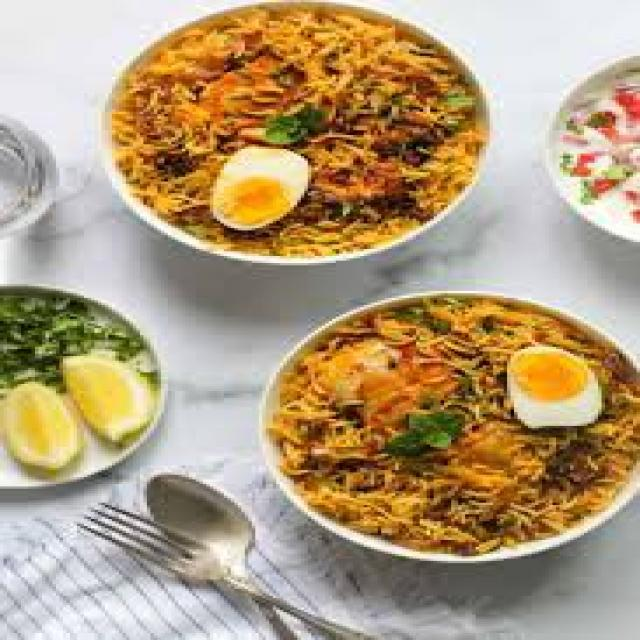Biryani: (98, 3, 478, 277), (275, 294, 640, 565)
